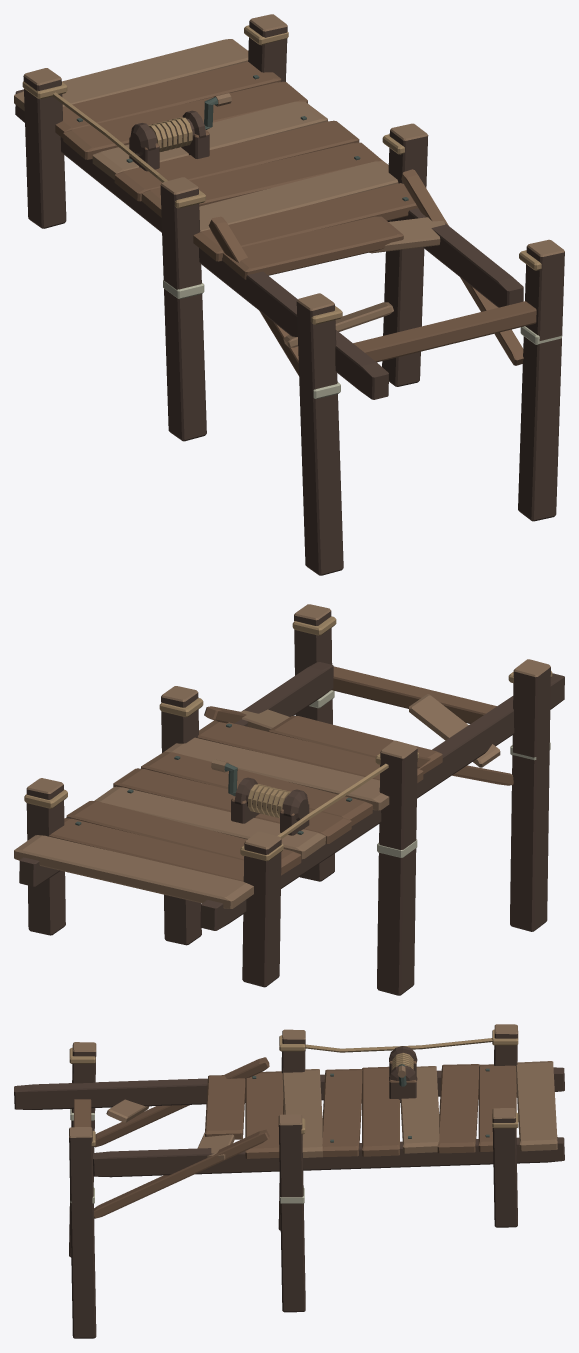
File: salt_lake_dock.glb
3 renders of one model, top to bottom at view 1: azimuth 30°, elevation 25°; view 2: azimuth 150°, elevation 25°; view 3: azimuth 270°, elevation 25°, orthographic. The views are drawn at different scales.
Visible parts, largest first — view 1: salt_lake_dock; view 2: salt_lake_dock; view 3: salt_lake_dock.
Part boxes in pixels (x1,y1,x2,y2): salt_lake_dock: (14, 14, 564, 575); salt_lake_dock: (14, 604, 564, 995); salt_lake_dock: (14, 1024, 564, 1338).
Bounding box in the file's own units: 6.5 × 7.25 × 16.01.
